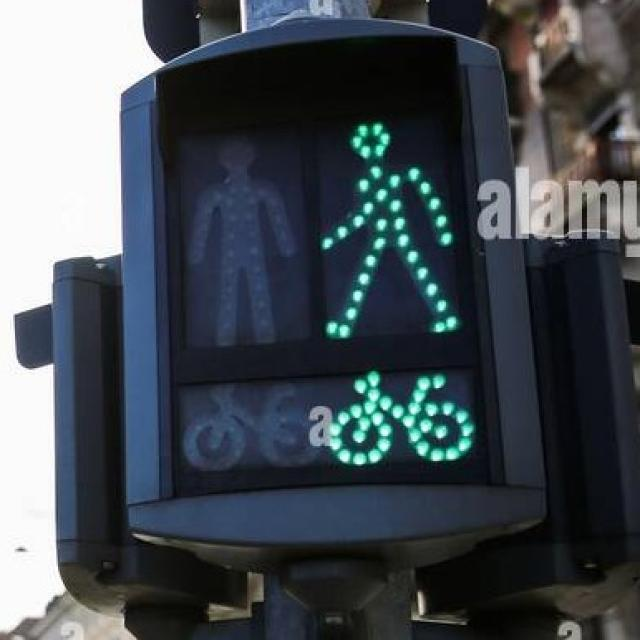geen-crossing: (308, 106, 462, 340)
